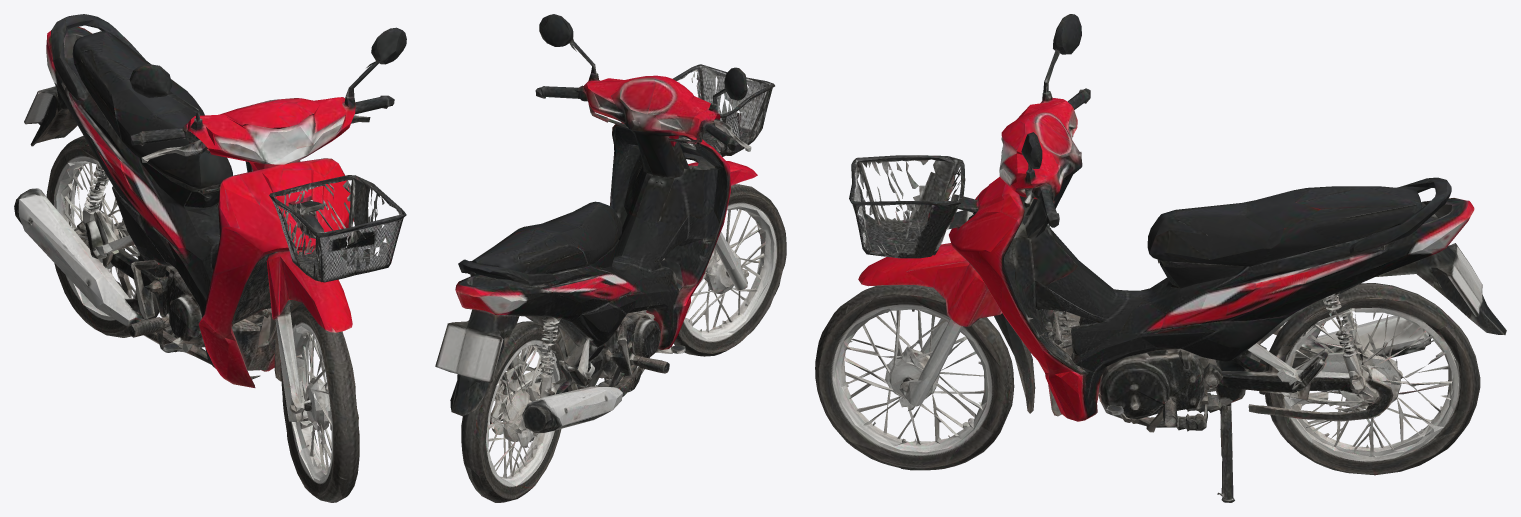
File: e4moto.glb
The picture shows the model from 3 angles, left to right: view 1: azimuth 30°, elevation 25°; view 2: azimuth 150°, elevation 25°; view 3: azimuth 270°, elevation 25°; orthographic projection. The views are drawn at different scales.
Parts seen in each view (by area): view 1: output_unwrapped; view 2: output_unwrapped; view 3: output_unwrapped.
Part boxes in pixels (left/top/right/bottom): output_unwrapped: left=14, top=14, right=406, bottom=502; output_unwrapped: left=435, top=14, right=786, bottom=502; output_unwrapped: left=815, top=14, right=1506, bottom=502.
Size of the model in its own units: 0.8361 by 1.25 by 1.92.
Materials: 1 (1 with a texture image).
